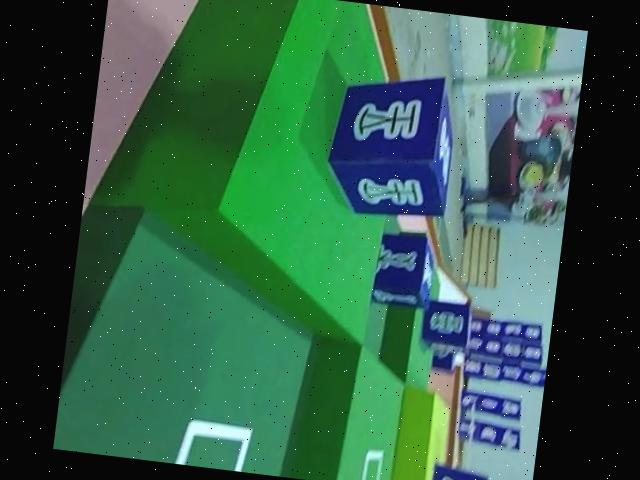R2 Real Blue: (319, 63, 462, 221), (368, 228, 437, 311), (419, 300, 473, 353), (427, 463, 488, 480)
